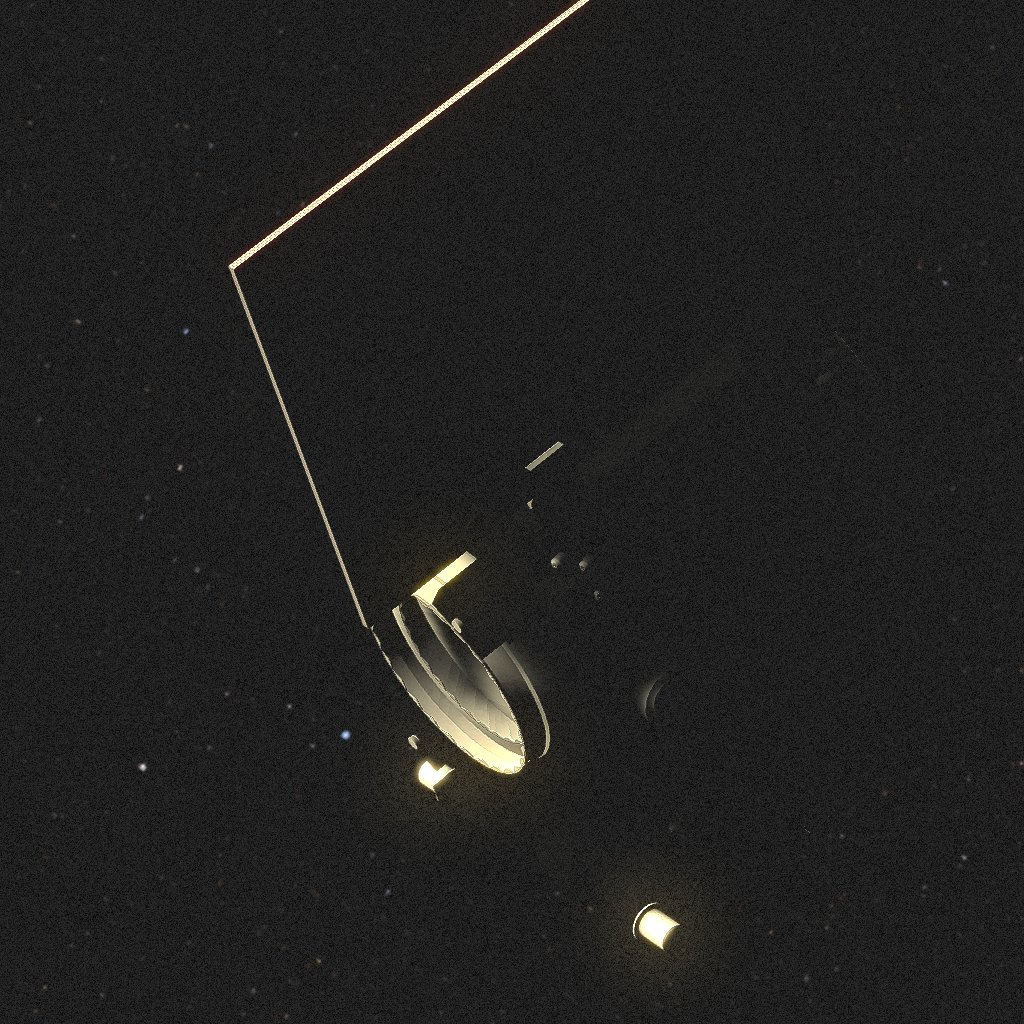proba_3_csc: (223, 14, 916, 924)
